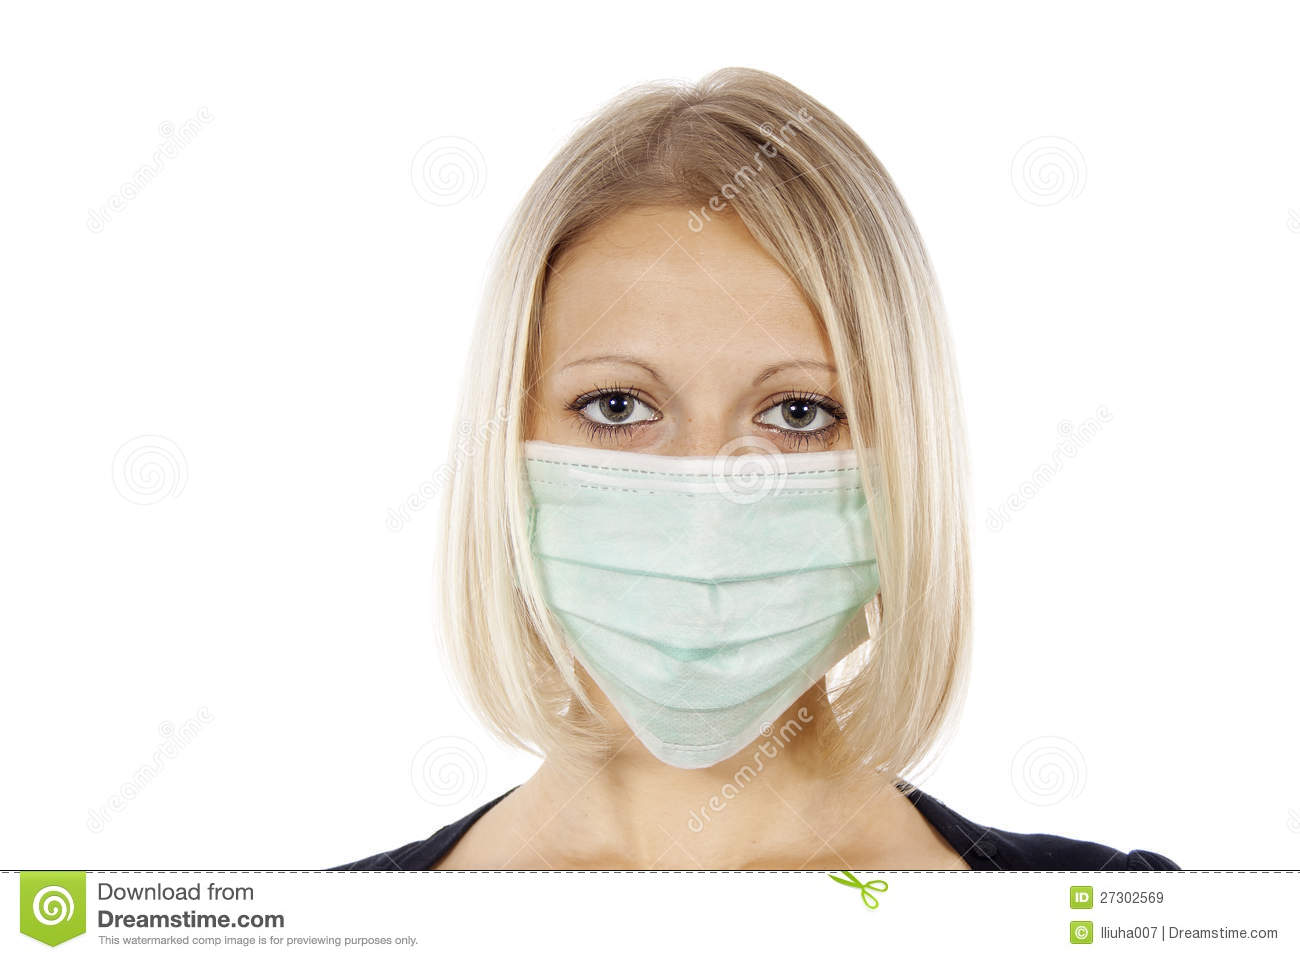mask: (517, 441, 874, 769)
